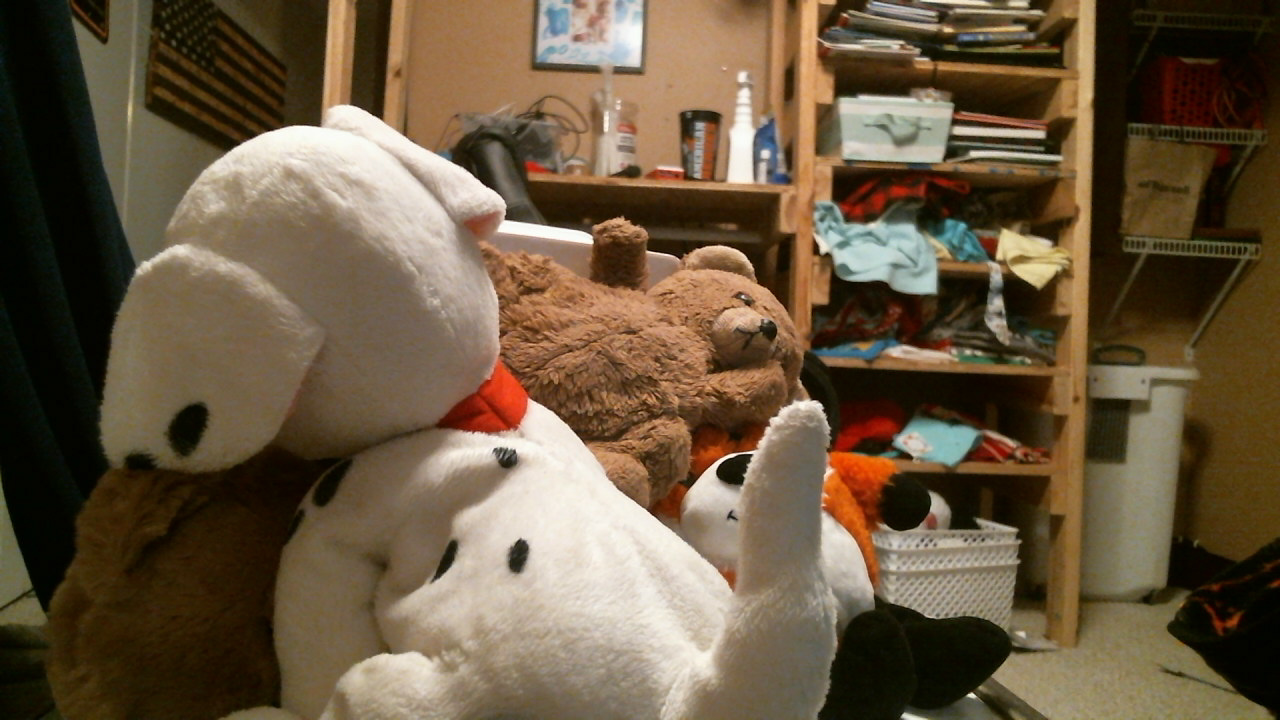Little_Mister_Bear: (671, 293, 796, 371)
